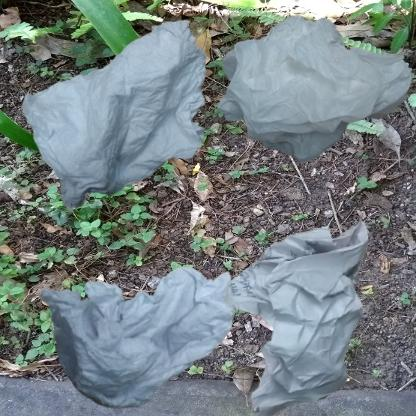bolsa: (213, 10, 416, 173)
papel: (10, 10, 275, 242), (10, 213, 269, 416), (213, 213, 406, 416)
